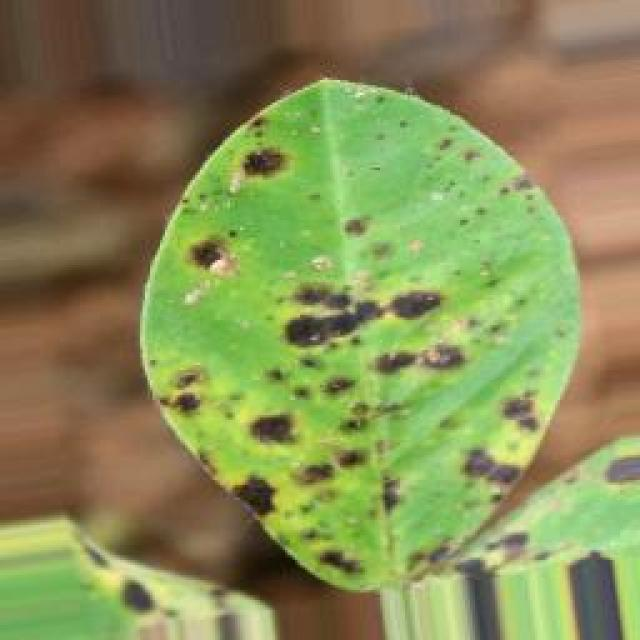Yellowish: (81, 80, 581, 586)
